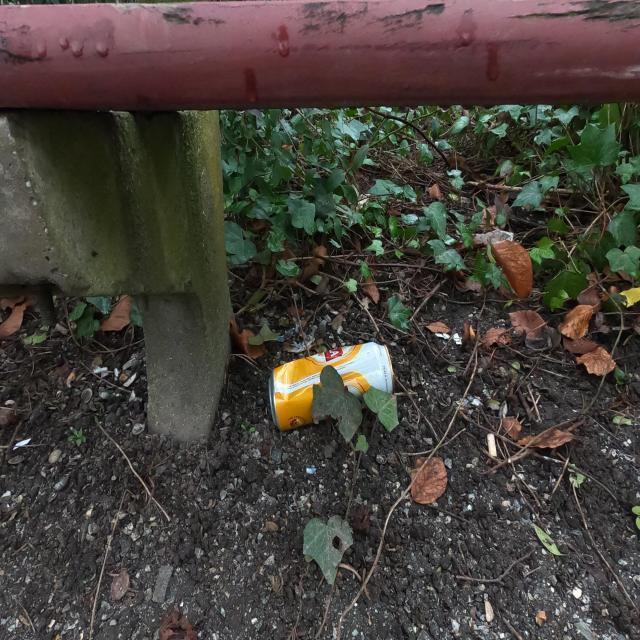Can-Metal: (268, 340, 397, 433)
